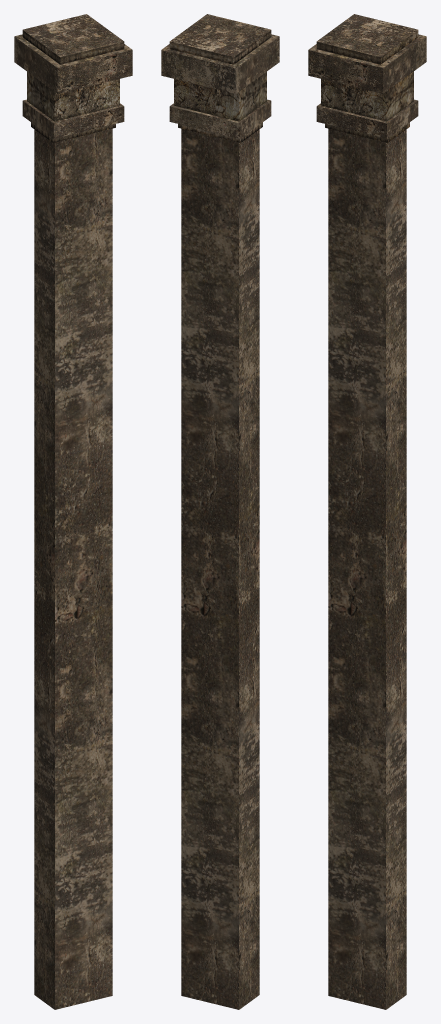
The model's file is materials_5_pillar_long_16.fbx.
The picture shows the model from 3 angles, left to right: view 1: azimuth 30°, elevation 25°; view 2: azimuth 150°, elevation 25°; view 3: azimuth 330°, elevation 25°; orthographic projection.
Parts seen in each view (by area): view 1: materials_5_pillar_long_16; view 2: materials_5_pillar_long_16; view 3: materials_5_pillar_long_16.
Boxes of the visible parts, x1,y1,x2,y2 form: materials_5_pillar_long_16: (14, 14, 132, 1009); materials_5_pillar_long_16: (161, 14, 279, 1009); materials_5_pillar_long_16: (308, 14, 426, 1009).
Size of the model in its own units: 17.6 by 215 by 17.71.
